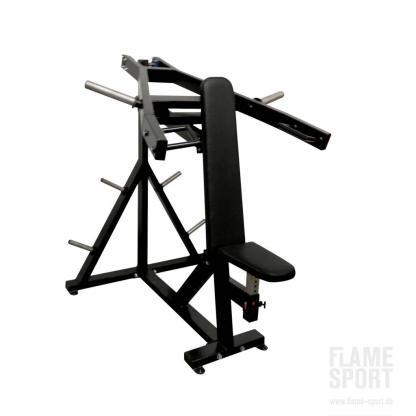shoulder press machine: (55, 45, 333, 378)
